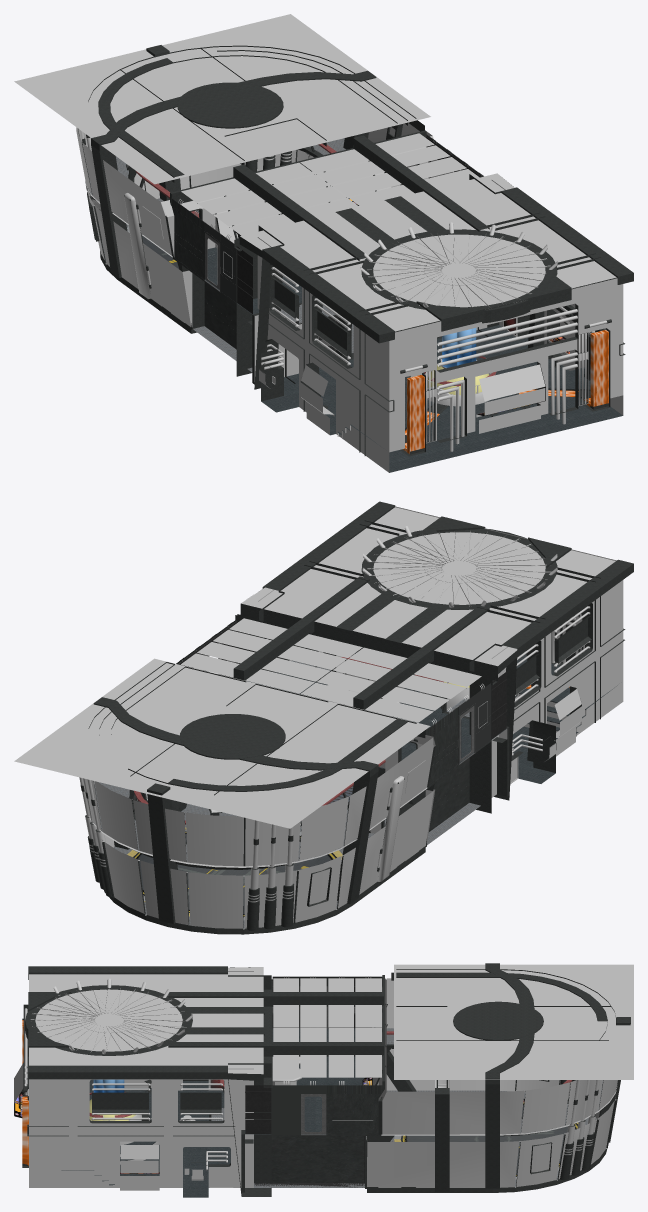
File: MonitorShuttlebay.fbx
3 renders of one model, top to bottom at view 1: azimuth 30°, elevation 25°; view 2: azimuth 150°, elevation 25°; view 3: azimuth 270°, elevation 25°, orthographic. The views are drawn at different scales.
Parts seen in each view (by area): view 1: Cube.006, Cube.022, Cube.016, Cube.020, Cube.005, Cube.003, Cube.035, Cube.012, Cube.018, Cube.028, Cube.025, Cube.009 (+1 smaller); view 2: Cube.006, Cube.022, Cube.020, Cube.016, Cube.035, Cube.003, Cube.018, Cube.005, Cube.009, Cube.012, Cube.021, Cube.025; view 3: Cube.006, Cube.022, Cube.020, Cube.016, Cube.035, Cube.005, Cube.018, Cube.003, Cube.025, Cube.012, Cube.021, Cube.009 (+4 smaller).
Boxes of the visible parts, left/top/right/bottom form: Cube.006: left=14, top=14, right=616, bottom=372; Cube.022: left=78, top=45, right=633, bottom=456; Cube.016: left=254, top=180, right=623, bottom=472; Cube.020: left=76, top=123, right=433, bottom=326; Cube.005: left=205, top=247, right=622, bottom=472; Cube.003: left=80, top=130, right=594, bottom=451; Cube.035: left=172, top=146, right=474, bottom=358; Cube.012: left=127, top=159, right=569, bottom=417; Cube.018: left=360, top=222, right=557, bottom=307; Cube.028: left=403, top=330, right=608, bottom=453; Cube.025: left=172, top=136, right=481, bottom=353; Cube.009: left=85, top=138, right=353, bottom=372; Cube.006: left=14, top=507, right=615, bottom=867; Cube.022: left=80, top=501, right=633, bottom=934; Cube.020: left=82, top=735, right=435, bottom=929; Cube.016: left=258, top=506, right=623, bottom=797; Cube.035: left=202, top=630, right=491, bottom=831; Cube.003: left=79, top=606, right=590, bottom=902; Cube.018: left=362, top=526, right=557, bottom=607; Cube.005: left=247, top=652, right=617, bottom=783; Cube.009: left=92, top=782, right=480, bottom=928; Cube.012: left=194, top=638, right=581, bottom=825; Cube.021: left=135, top=832, right=335, bottom=916; Cube.025: left=178, top=621, right=507, bottom=764; Cube.006: left=27, top=964, right=633, bottom=1096; Cube.022: left=14, top=963, right=630, bottom=1196; Cube.020: left=367, top=978, right=617, bottom=1187; Cube.016: left=29, top=971, right=253, bottom=1190; Cube.035: left=271, top=979, right=382, bottom=1182; Cube.005: left=61, top=1028, right=364, bottom=1197; Cube.018: left=30, top=978, right=192, bottom=1054; Cube.003: left=24, top=1008, right=599, bottom=1187; Cube.025: left=245, top=979, right=382, bottom=1187; Cube.012: left=14, top=997, right=393, bottom=1180; Cube.021: left=402, top=1103, right=577, bottom=1175; Cube.009: left=254, top=1028, right=616, bottom=1187.
Bounding box in the file's own units: 5645 × 2831 × 12206.
